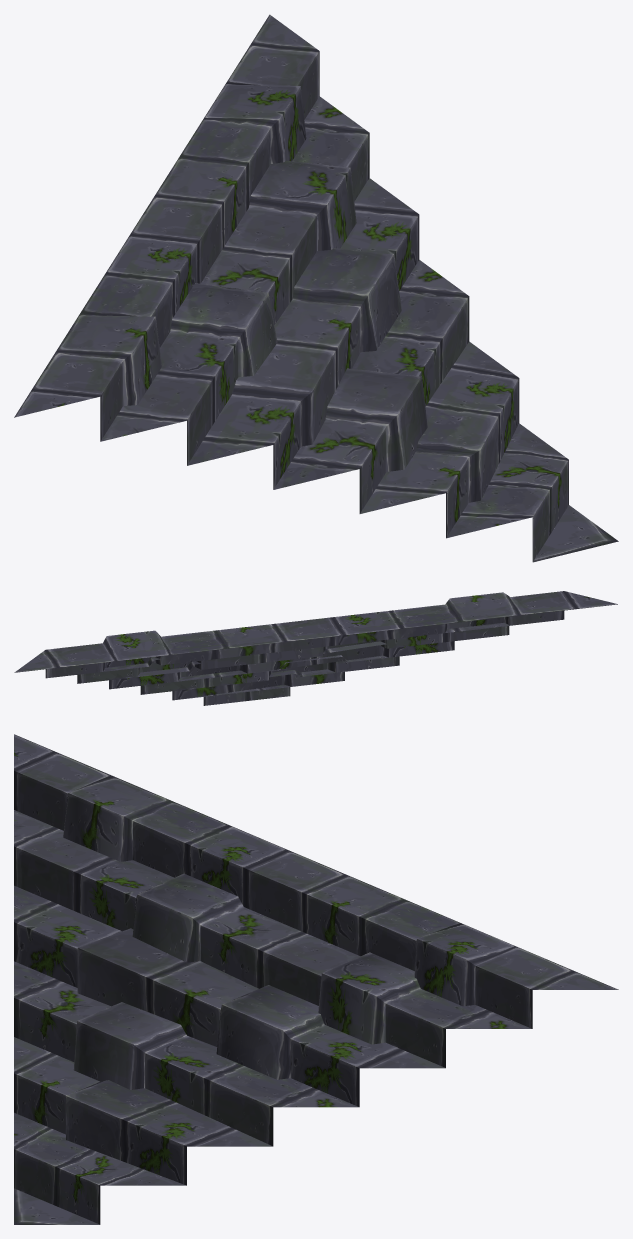
Rendered from MOD_Stairs_01_E_angle_concave_3.fbx.
The picture shows the model from 3 angles, top to bottom: view 1: azimuth 30°, elevation 25°; view 2: azimuth 150°, elevation 25°; view 3: azimuth 270°, elevation 25°; orthographic projection. The views are drawn at different scales.
Visible parts, largest first — view 1: MOD_Stairs_01_E_angle_concave_3; view 2: MOD_Stairs_01_E_angle_concave_3; view 3: MOD_Stairs_01_E_angle_concave_3.
Part boxes in pixels (bbox=[...]): MOD_Stairs_01_E_angle_concave_3: bbox=[14, 14, 618, 562]; MOD_Stairs_01_E_angle_concave_3: bbox=[14, 591, 617, 705]; MOD_Stairs_01_E_angle_concave_3: bbox=[14, 734, 618, 1224].
Size of what is drawn, in the model's own units: 400 by 176 by 400.
